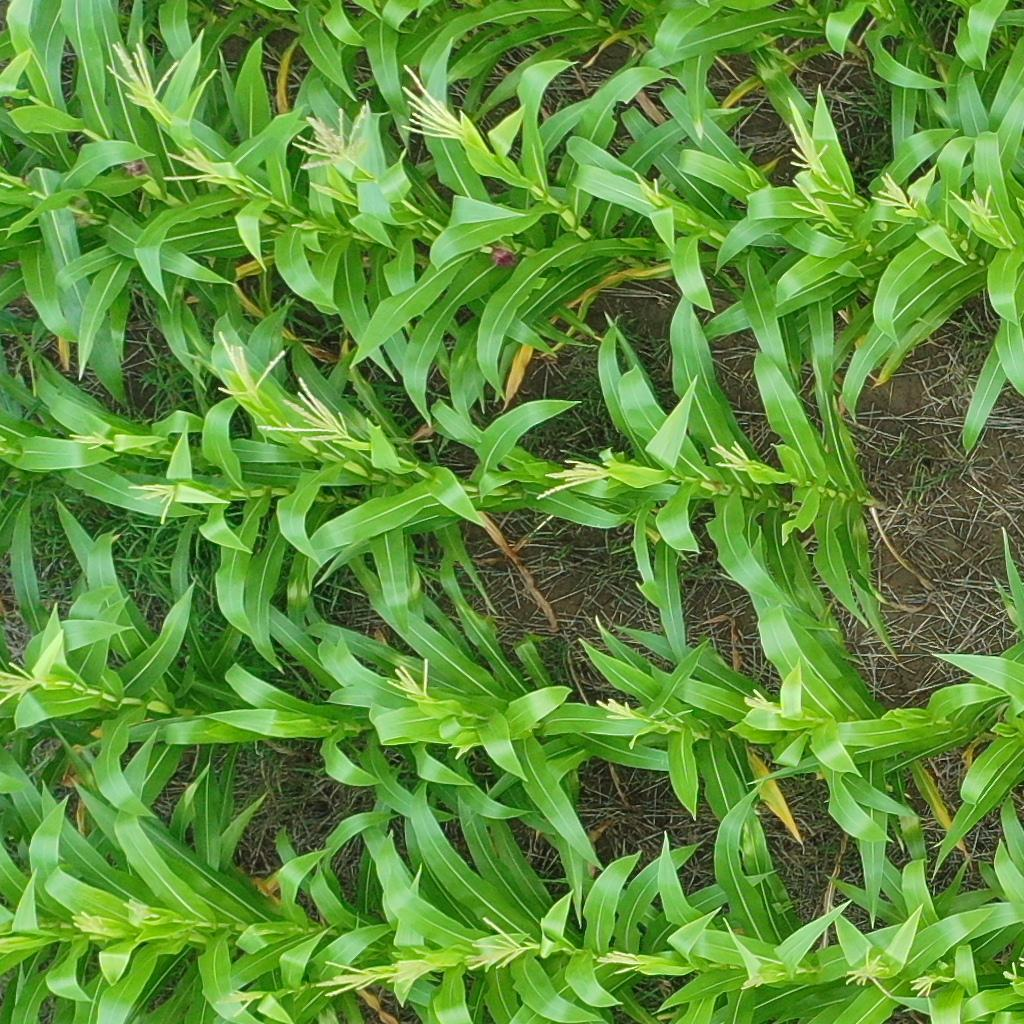Tassel: (256, 376, 352, 444), (400, 59, 470, 141), (103, 40, 181, 111), (288, 103, 367, 171), (213, 332, 286, 398), (463, 916, 531, 972), (536, 459, 612, 503), (162, 147, 231, 190), (316, 958, 381, 1000), (127, 481, 181, 529), (788, 125, 831, 175), (944, 181, 998, 220), (385, 659, 432, 703), (844, 945, 890, 987), (869, 172, 918, 211), (386, 958, 438, 993), (1, 661, 40, 705), (212, 987, 265, 1018), (708, 442, 755, 473), (594, 696, 639, 726), (594, 950, 640, 978), (70, 911, 112, 941), (791, 180, 824, 218), (741, 688, 782, 716), (67, 431, 117, 453), (125, 898, 161, 923), (633, 171, 664, 199), (908, 974, 941, 1000), (740, 977, 765, 992), (1002, 958, 1018, 981)
